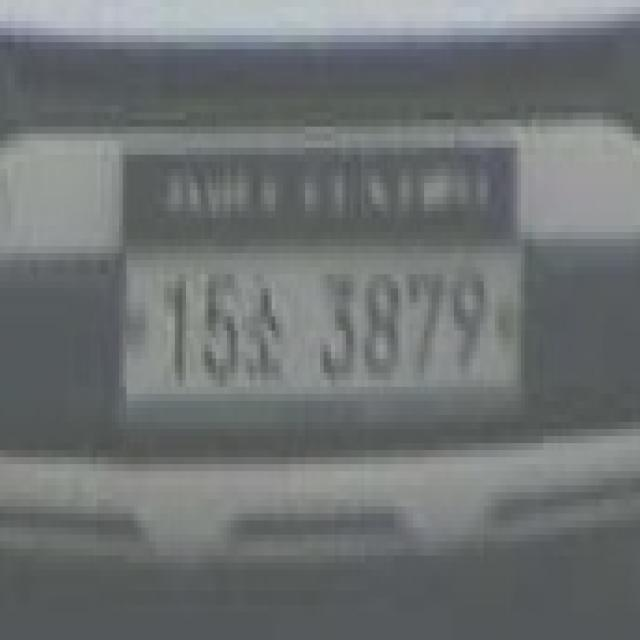plat: (112, 236, 538, 418)
